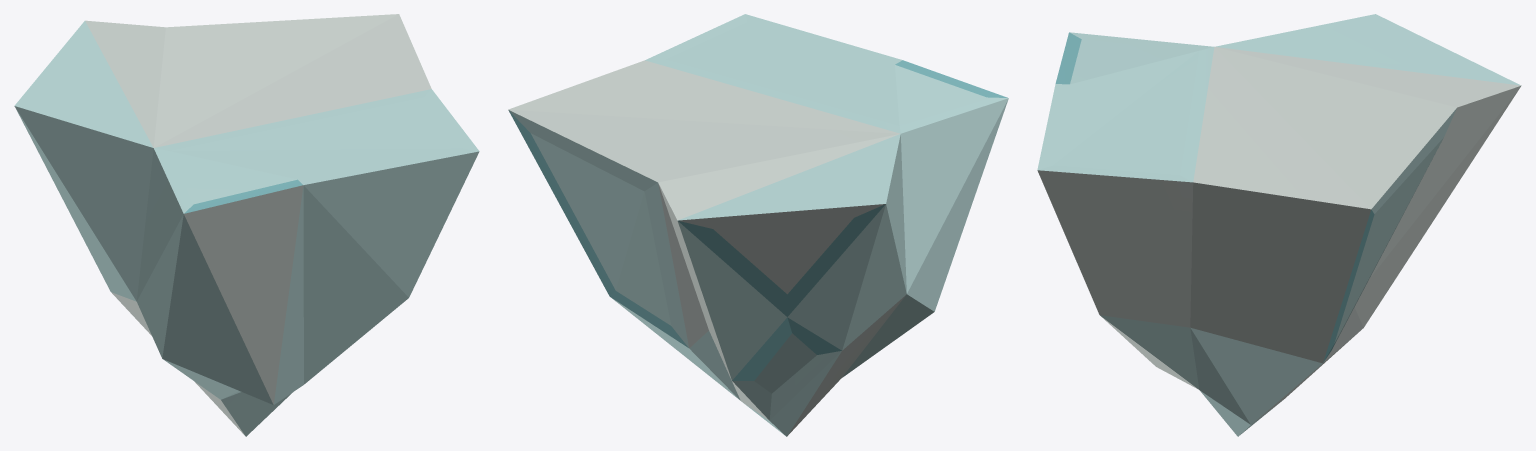
The model's file is SUELO2.fbx.
3 renders of one model, left to right at view 1: azimuth 30°, elevation 25°; view 2: azimuth 150°, elevation 25°; view 3: azimuth 270°, elevation 25°, orthographic. The views are drawn at different scales.
Visible parts, largest first — view 1: Cubo.044; view 2: Cubo.044; view 3: Cubo.044.
Boxes of the visible parts, box(x1,y1,x2,y2) form: Cubo.044: box(14, 14, 479, 436); Cubo.044: box(508, 14, 1008, 436); Cubo.044: box(1037, 14, 1521, 436).
Bounding box in the file's own units: 119 × 97.15 × 125.
